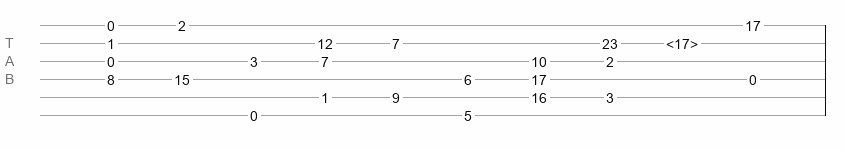0: (107, 54, 115, 64), (107, 18, 115, 28), (250, 108, 258, 118), (749, 72, 757, 82)
1: (107, 36, 115, 46), (321, 90, 329, 100)
10: (531, 54, 547, 64)
12: (317, 36, 333, 46)
15: (174, 72, 190, 82)
16: (531, 90, 547, 100)
17: (531, 72, 547, 82), (745, 18, 761, 28)
2: (178, 18, 186, 28), (606, 54, 614, 64)
23: (602, 36, 618, 46)
3: (250, 54, 258, 64), (606, 90, 614, 100)
5: (464, 108, 472, 118)
6: (464, 72, 472, 82)
7: (321, 54, 329, 64), (392, 36, 400, 46)
8: (107, 72, 115, 82)
9: (392, 90, 400, 100)
harmonic: (666, 36, 698, 46)
